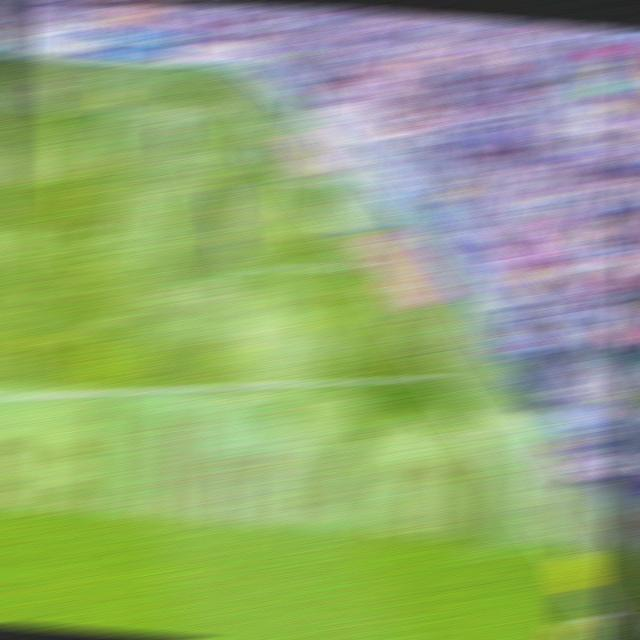bigarea_bottom_inner: (236, 260, 260, 276)
bigarea_top_inner: (186, 150, 211, 163)
bottom_arc_area_intersection: (425, 368, 453, 386)
corner: (213, 70, 240, 79)
smallarea_top_outter: (274, 151, 298, 161)
